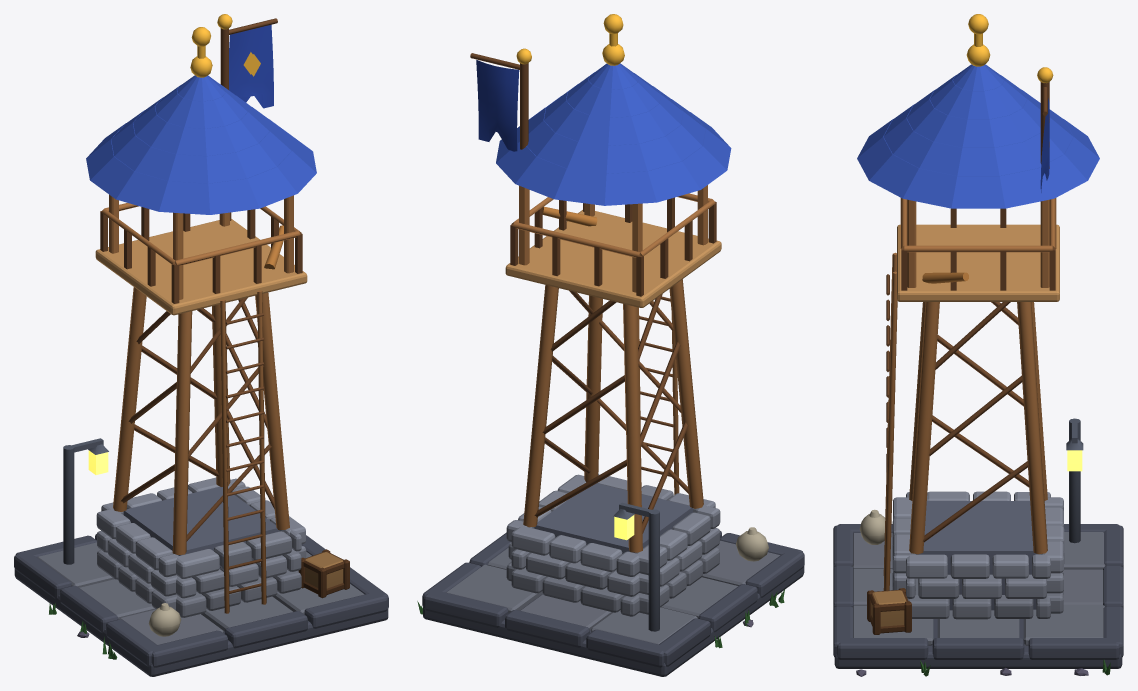
The model's file is explorer_tower.glb.
The picture shows the model from 3 angles, left to right: view 1: azimuth 30°, elevation 25°; view 2: azimuth 150°, elevation 25°; view 3: azimuth 270°, elevation 25°; orthographic projection. The views are drawn at different scales.
Visible parts, largest first — view 1: t0_stone, t0_roof_blue, t0_stone_dark, t0_wood, t0_wood_dark, t0_wood_light, t0_cloth_blue, t1_iron, t0_gold, t2_cloth_cream; view 2: t0_stone, t0_roof_blue, t0_stone_dark, t0_wood, t0_wood_dark, t0_wood_light, t0_cloth_blue, t1_iron, t2_cloth_cream, t0_gold; view 3: t0_stone, t0_roof_blue, t0_stone_dark, t0_wood, t0_wood_light, t0_wood_dark, t1_iron, t2_cloth_cream, t0_gold, t0_cloth_blue, t0_bronze.
Part boxes in pixels (x1,y1,x2,y2): t0_stone: (37,477,364,644); t0_roof_blue: (86,75,316,214); t0_stone_dark: (14,486,388,676); t0_wood: (101,194,301,613); t0_wood_dark: (100,18,349,598); t0_wood_light: (95,219,343,588); t0_cloth_blue: (229,24,273,108); t1_iron: (63,438,108,564); t0_gold: (191,14,260,76); t2_cloth_cream: (148,603,181,636); t0_stone: (446,473,779,644); t0_roof_blue: (496,63,731,205); t0_stone_dark: (422,483,804,676); t0_wood: (511,185,715,552); t0_wood_dark: (470,53,716,533); t0_wood_light: (505,210,721,307); t0_cloth_blue: (476,60,519,151); t1_iron: (613,502,659,631); t2_cloth_cream: (736,527,768,561); t0_gold: (516,14,623,64); t0_stone: (852,491,1105,645); t0_roof_blue: (857,64,1099,208); t0_stone_dark: (833,501,1123,668); t0_wood: (883,198,1056,590); t0_wood_light: (871,224,1059,626); t0_wood_dark: (867,82,1055,634); t1_iron: (1066,418,1083,543); t2_cloth_cream: (859,509,885,544); t0_gold: (968,14,1053,83); t0_cloth_blue: (1040,98,1049,192); t0_bronze: (922,272,968,283).
Bounding box in the file's own units: 2.12 × 4.45 × 1.96.
